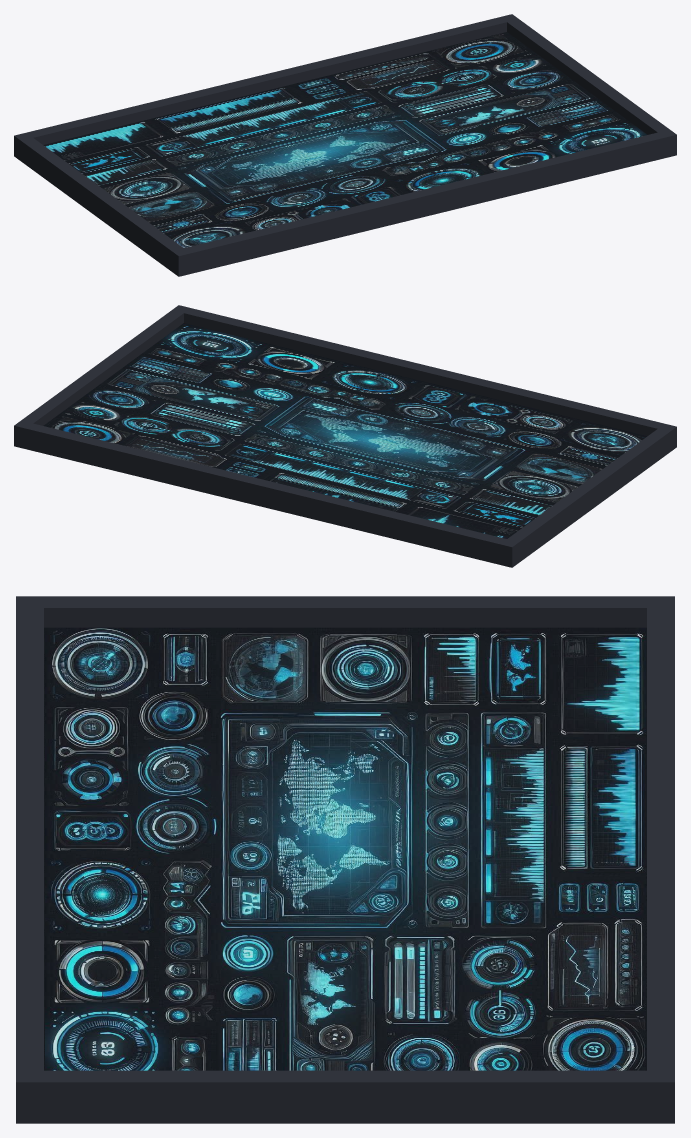
The model's file is Ecran sol2.glb.
The picture shows the model from 3 angles, top to bottom: view 1: azimuth 30°, elevation 25°; view 2: azimuth 150°, elevation 25°; view 3: azimuth 270°, elevation 25°; orthographic projection. The views are drawn at different scales.
Parts seen in each view (by area): view 1: Ecran sol left texture, Ecran sol left; view 2: Ecran sol left texture, Ecran sol left; view 3: Ecran sol left texture, Ecran sol left.
Boxes of the visible parts, x1,y1,x2,y2 form: Ecran sol left texture: [43, 32, 647, 247]; Ecran sol left: [14, 14, 676, 276]; Ecran sol left texture: [43, 323, 647, 538]; Ecran sol left: [14, 305, 676, 567]; Ecran sol left texture: [44, 627, 646, 1070]; Ecran sol left: [16, 596, 674, 1123].
Size of the model in its own units: 2.77 by 0.1095 by 1.58.
Materials: 2 (1 with a texture image).
